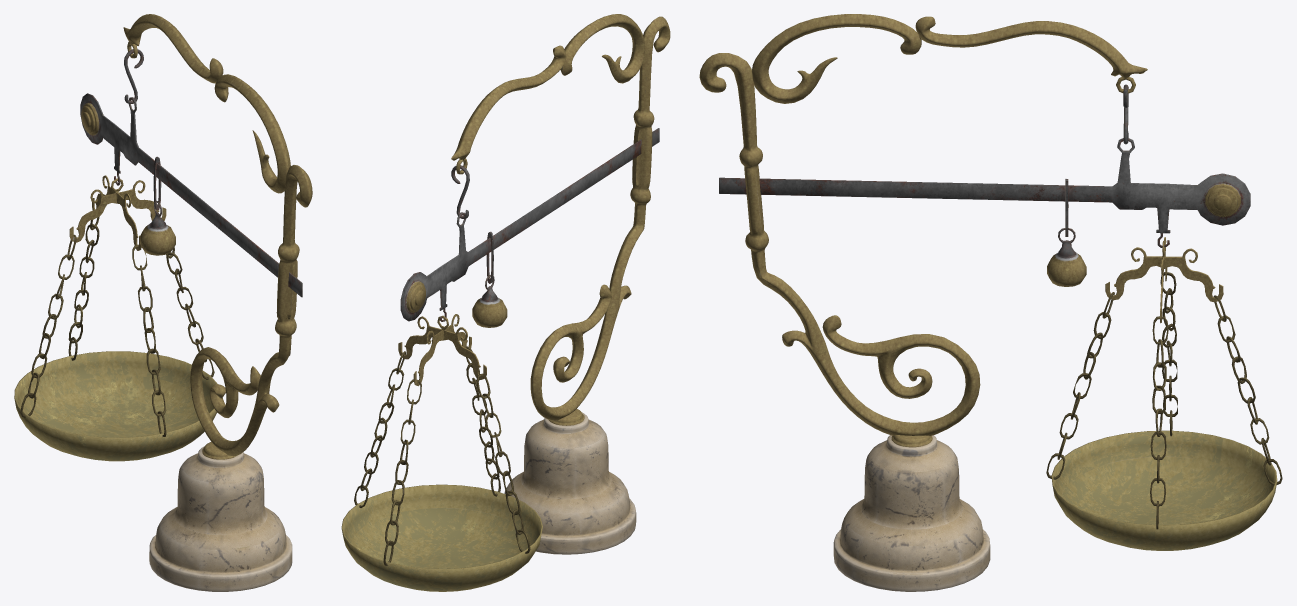
The picture shows the model from 3 angles, left to right: view 1: azimuth 30°, elevation 25°; view 2: azimuth 150°, elevation 25°; view 3: azimuth 270°, elevation 25°; orthographic projection. The views are drawn at different scales.
Visible parts, largest first — view 1: swirly_scale.001; view 2: swirly_scale.001; view 3: swirly_scale.001.
Boxes of the visible parts, <box> form: swirly_scale.001: <box>14,14,312,591</box>; swirly_scale.001: <box>341,14,670,591</box>; swirly_scale.001: <box>699,14,1282,591</box>.
Size of the model in its own units: 0.2402 by 0.6115 by 0.5932.
1 material, 1 textured.
